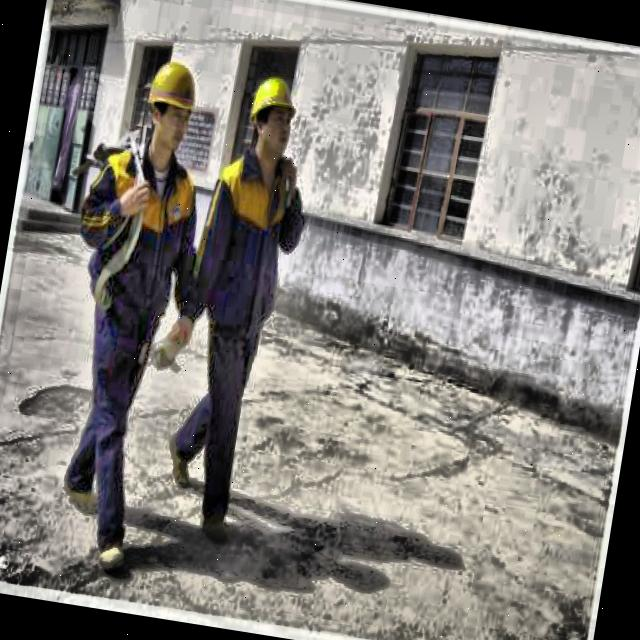helmet: (133, 46, 209, 170), (237, 62, 305, 174)
